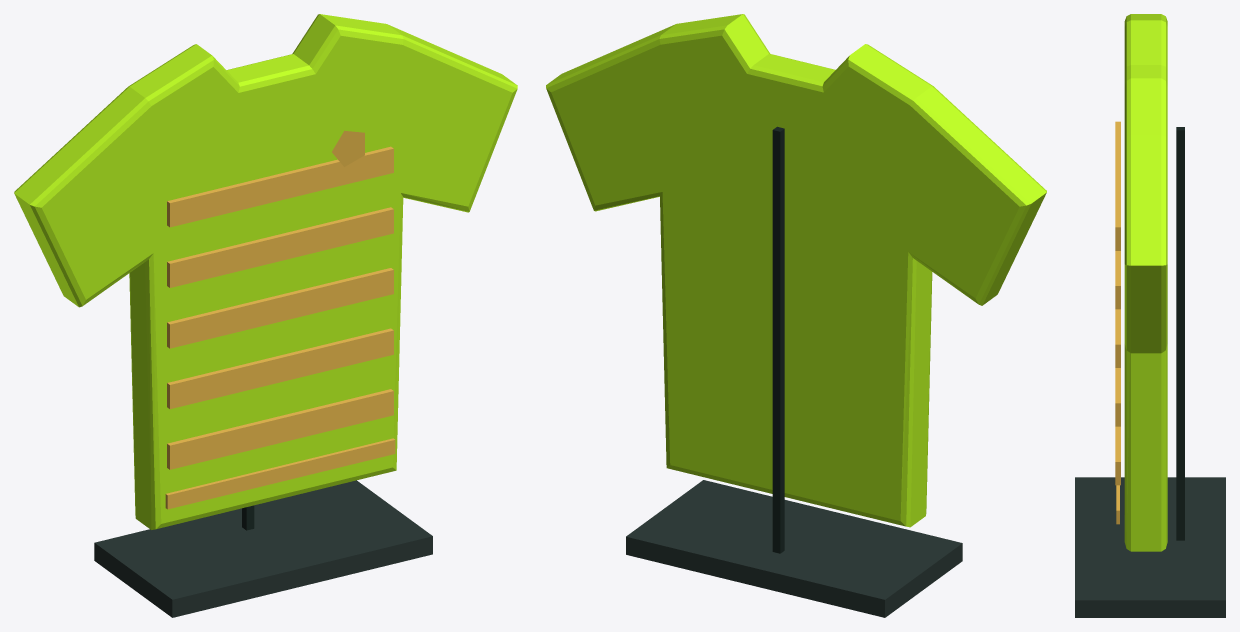
File: kit-hoops.glb
3 renders of one model, left to right at view 1: azimuth 30°, elevation 25°; view 2: azimuth 150°, elevation 25°; view 3: azimuth 270°, elevation 25°, orthographic. The views are drawn at different scales.
Parts seen in each view (by area): view 1: kit; view 2: kit; view 3: kit.
Boxes of the visible parts, left/top/right/bottom form: kit: left=14, top=14, right=517, bottom=617; kit: left=546, top=14, right=1046, bottom=617; kit: left=1075, top=14, right=1225, bottom=617.
Bounding box in the file's own units: 2.53 × 2.6 × 0.7.
